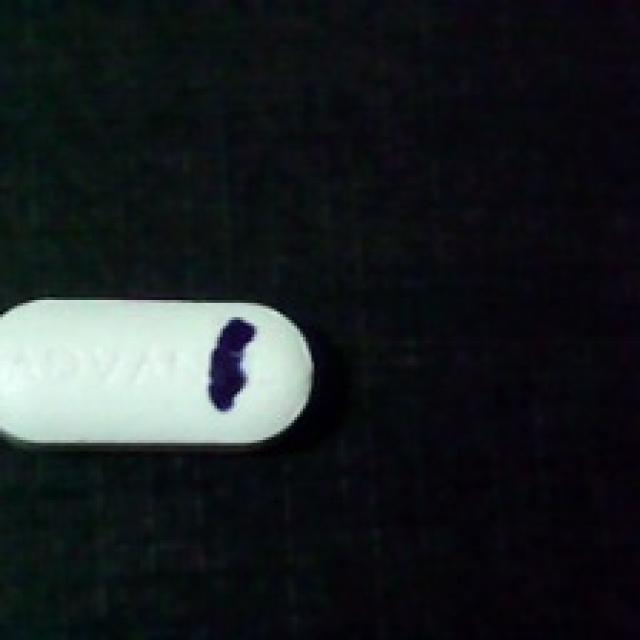defected: (0, 297, 317, 451)
